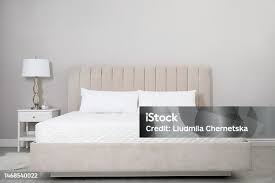bed-matress: (34, 109, 249, 143)
